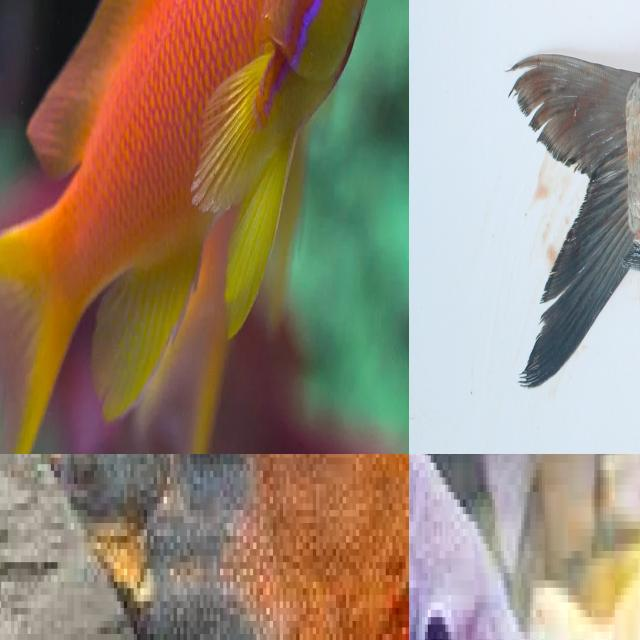fish: (0, 0, 409, 454), (0, 454, 409, 640), (504, 0, 640, 454), (409, 454, 608, 640)
